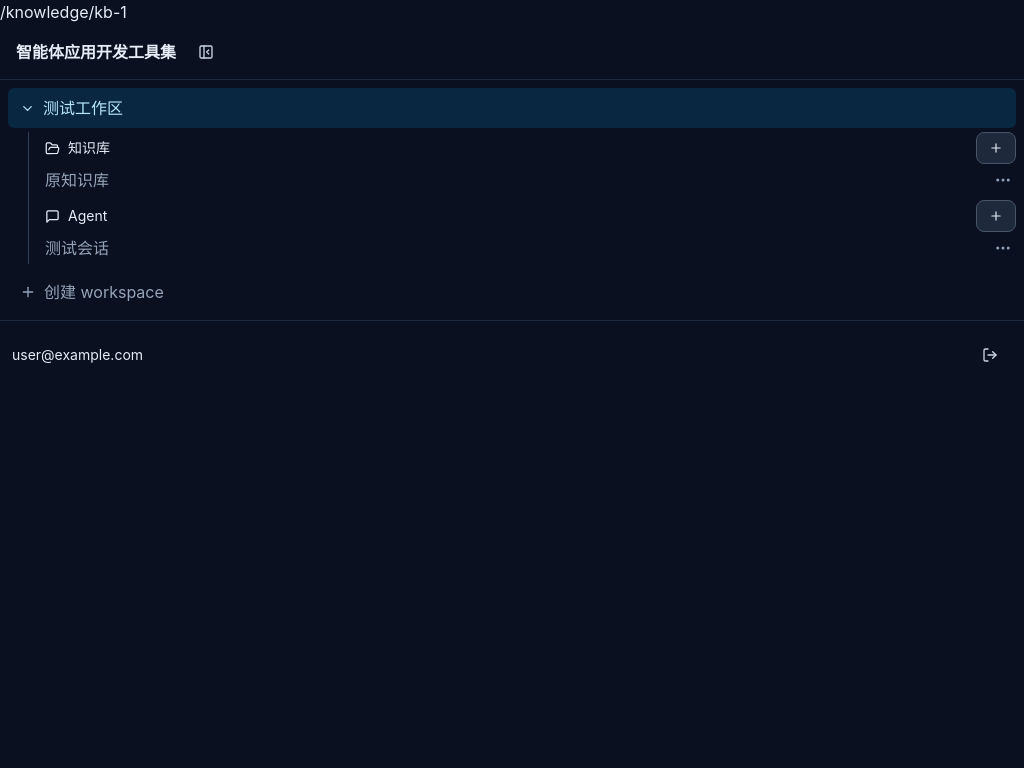
Test case: failed knowledge deletion remains visible and is not reported as complete
Click the button named "知识库操作：原知识库".
click(1003, 180)  # box left=990, top=167, right=1016, bottom=193
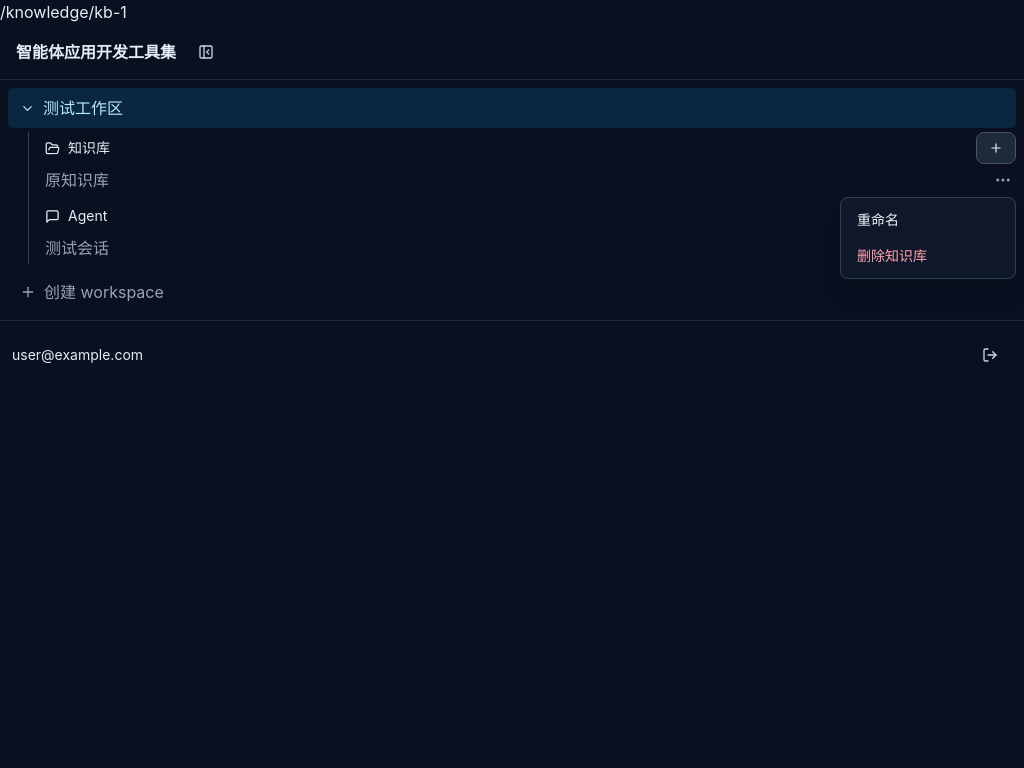
Click the menu item "删除知识库".
click(928, 256)  # box left=845, top=238, right=1011, bottom=274
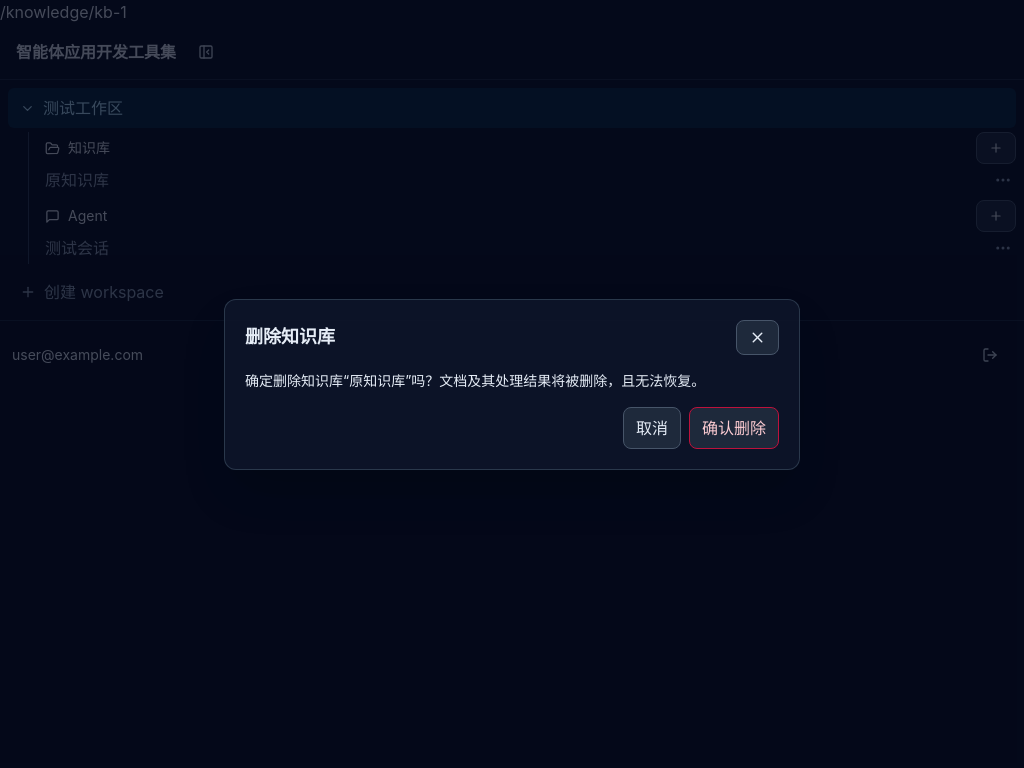
Click the button "确认删除".
click(734, 428)  # box left=689, top=406, right=779, bottom=448
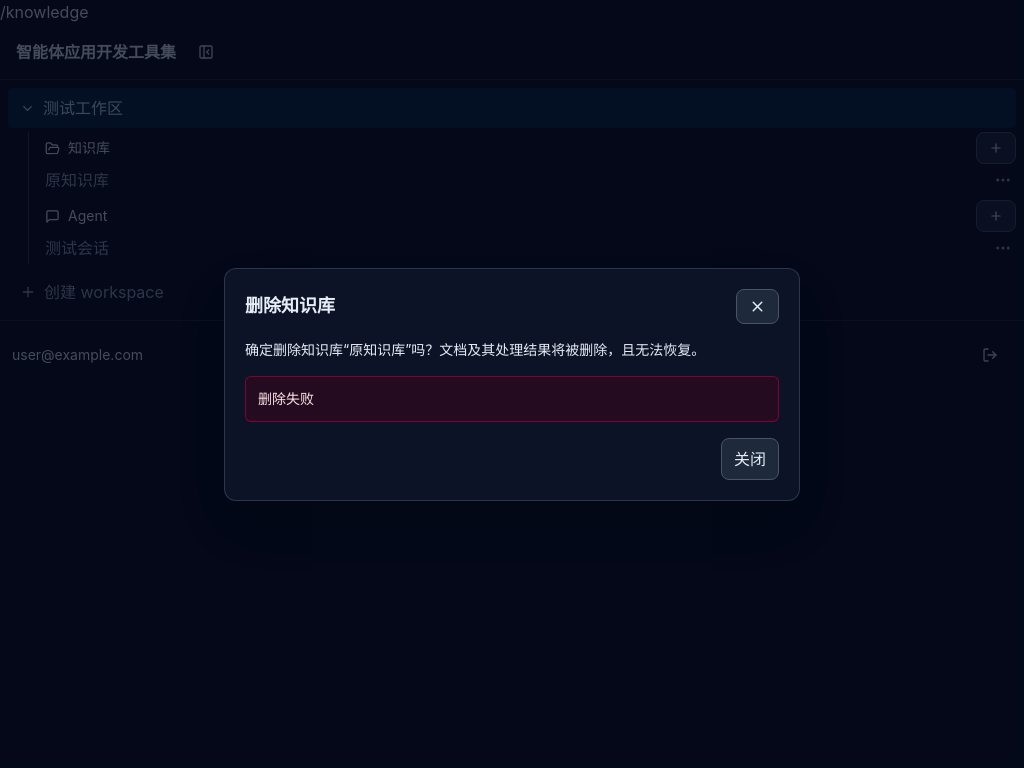
Expected: the dialog "删除知识库" is shown
Expected: the text "删除失败" is shown, left=258, top=390, right=314, bottom=406
Click the button "关闭".
click(750, 458)  # box left=721, top=438, right=779, bottom=480
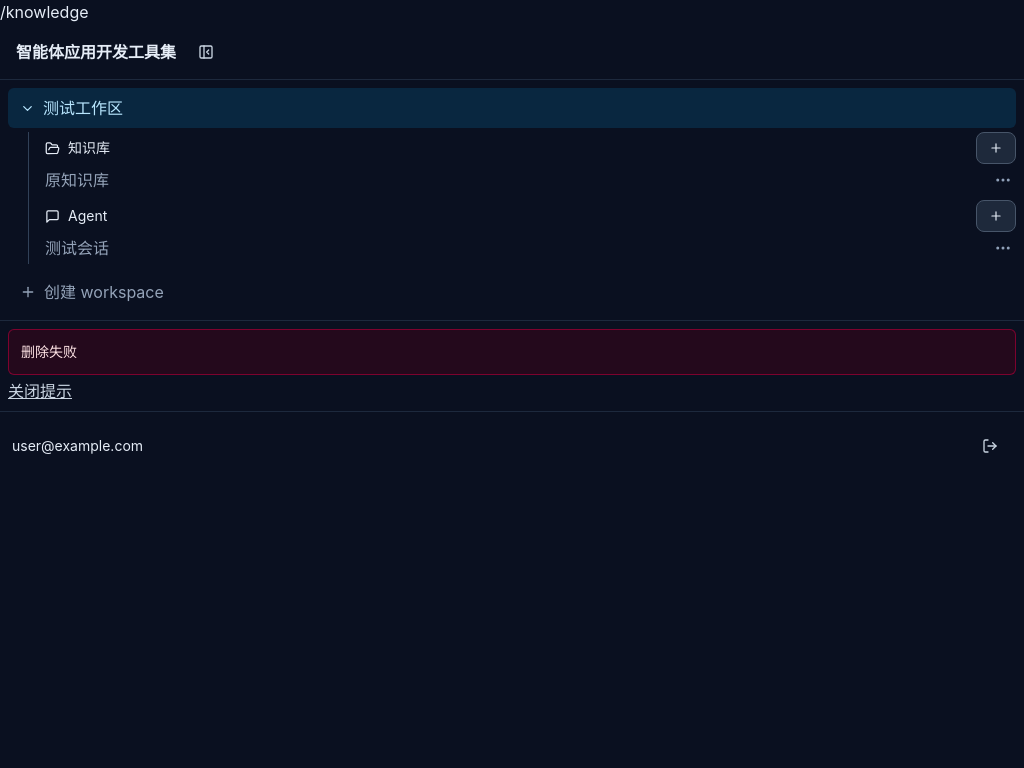
Expected: the message shows "删除失败", left=21, top=343, right=77, bottom=360
